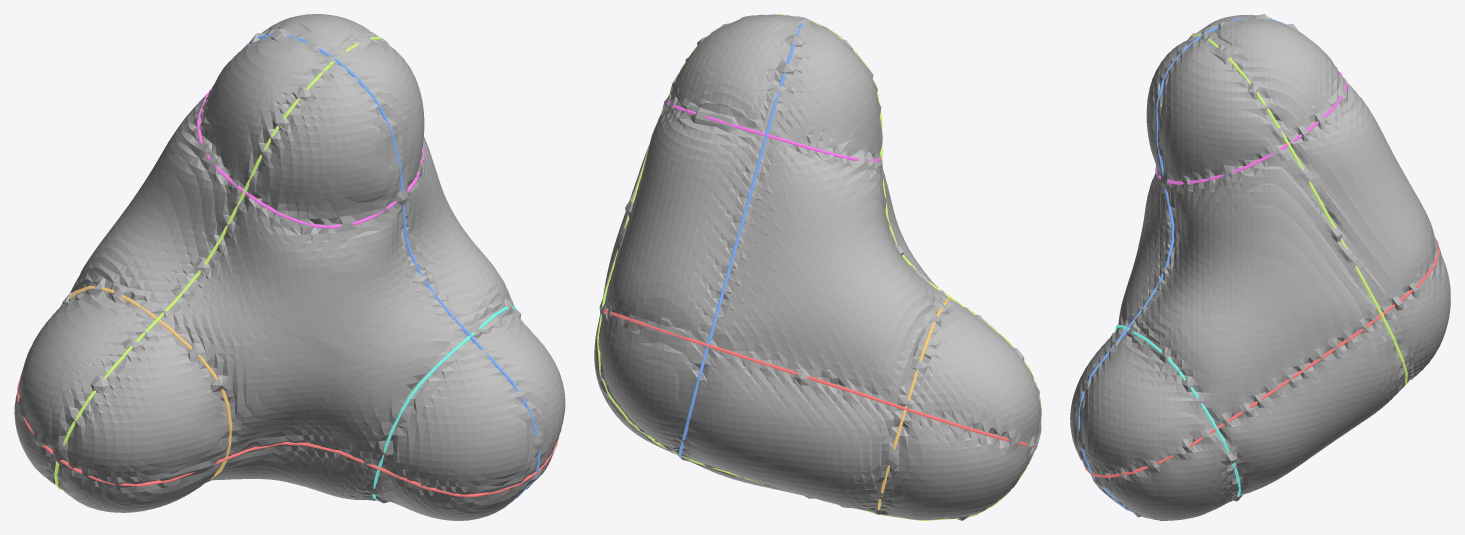
The model's file is flowrep_trebol.gltf.
3 renders of one model, left to right at view 1: azimuth 30°, elevation 25°; view 2: azimuth 150°, elevation 25°; view 3: azimuth 270°, elevation 25°, orthographic. The views are drawn at different scales.
Bounding box in the file's own units: 0.638 × 0.6309 × 0.4893.
